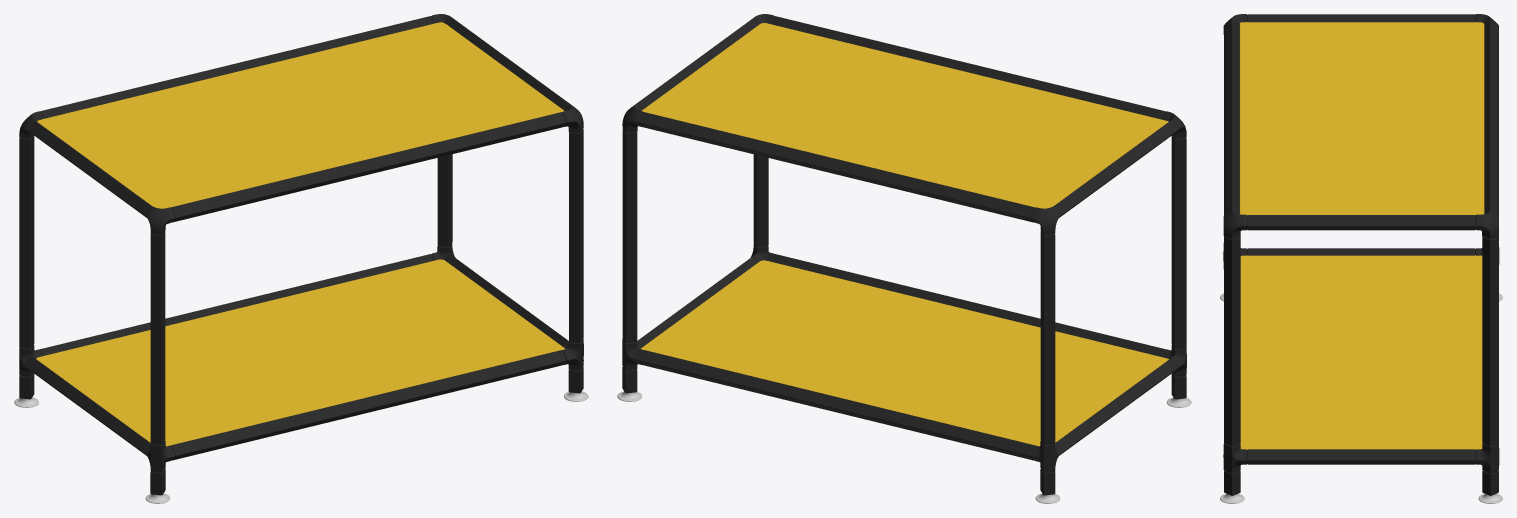
3 views of the same model, side by side, from view 1: azimuth 30°, elevation 25°; view 2: azimuth 150°, elevation 25°; view 3: azimuth 270°, elevation 25° (orthographic).
Parts seen in each view (by area): view 1: 729x374x374; view 2: 729x374x374; view 3: 729x374x374.
Boxes of the visible parts, bbox=[...] form: 729x374x374: bbox=[14, 14, 588, 503]; 729x374x374: bbox=[617, 14, 1191, 503]; 729x374x374: bbox=[1220, 14, 1502, 503].
Size of the model in its own units: 0.8189 by 0.5134 by 0.4633.
